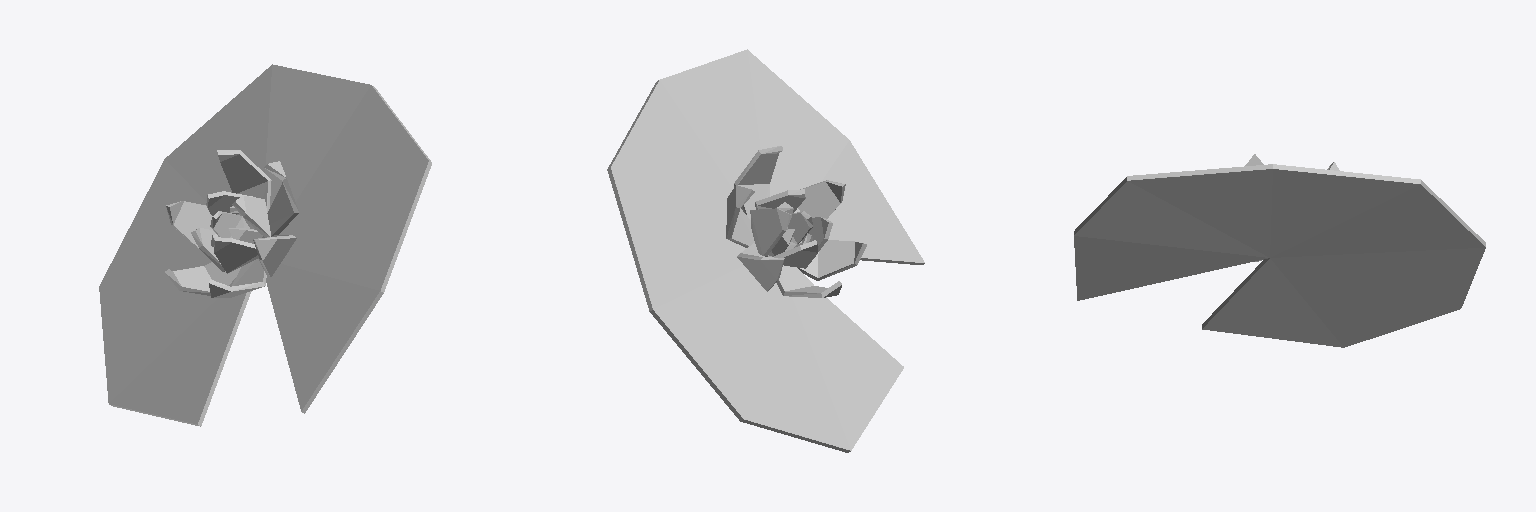
Rendered from lily.obj.
3 renders of one model, left to right at view 1: azimuth 30°, elevation 25°; view 2: azimuth 150°, elevation 25°; view 3: azimuth 270°, elevation 25°, orthographic.
Visible parts, largest first — view 1: Lilypad.008; view 2: Lilypad.008; view 3: Lilypad.008.
Boxes of the visible parts, x1,y1,x2,y2 form: Lilypad.008: [99, 64, 431, 426]; Lilypad.008: [607, 49, 924, 452]; Lilypad.008: [1074, 154, 1485, 347].
Size of the model in its own units: 0.7728 by 0.9374 by 1.2.